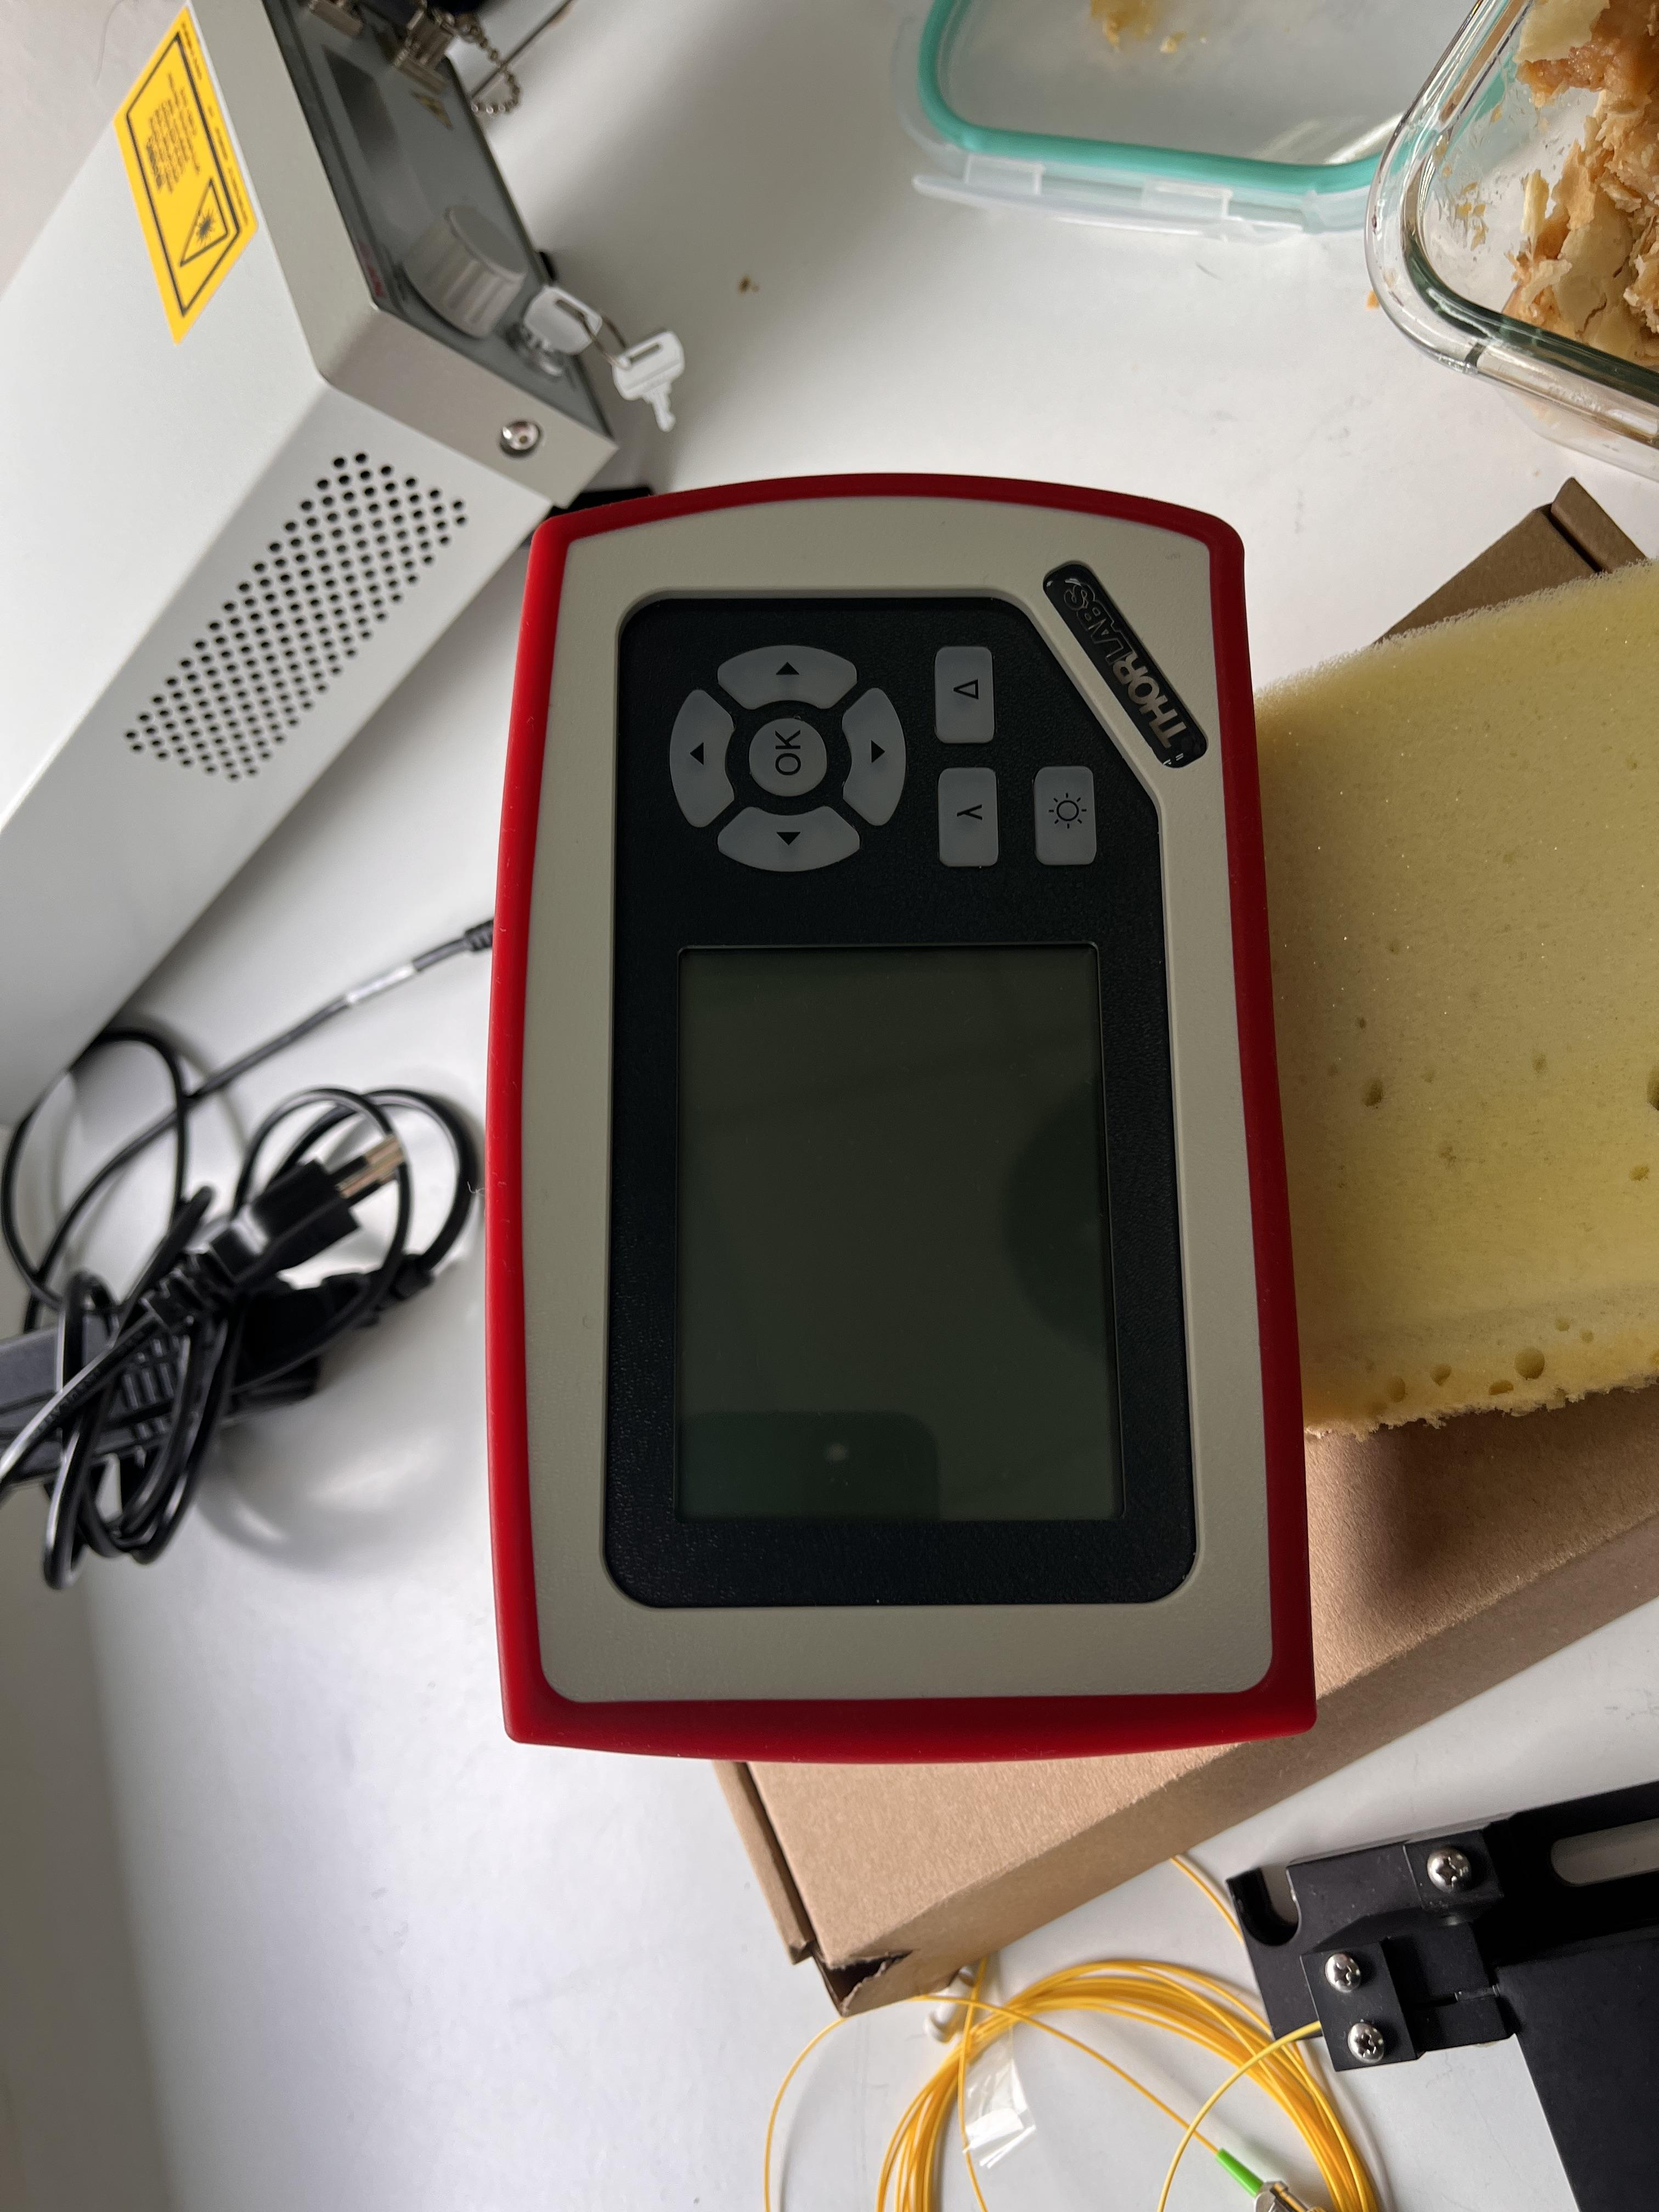fiber_cable: (760, 1843, 1439, 2212)
paddle_polarization_controller: (1234, 1782, 1657, 2212)
powermeter: (467, 472, 1314, 1775)
